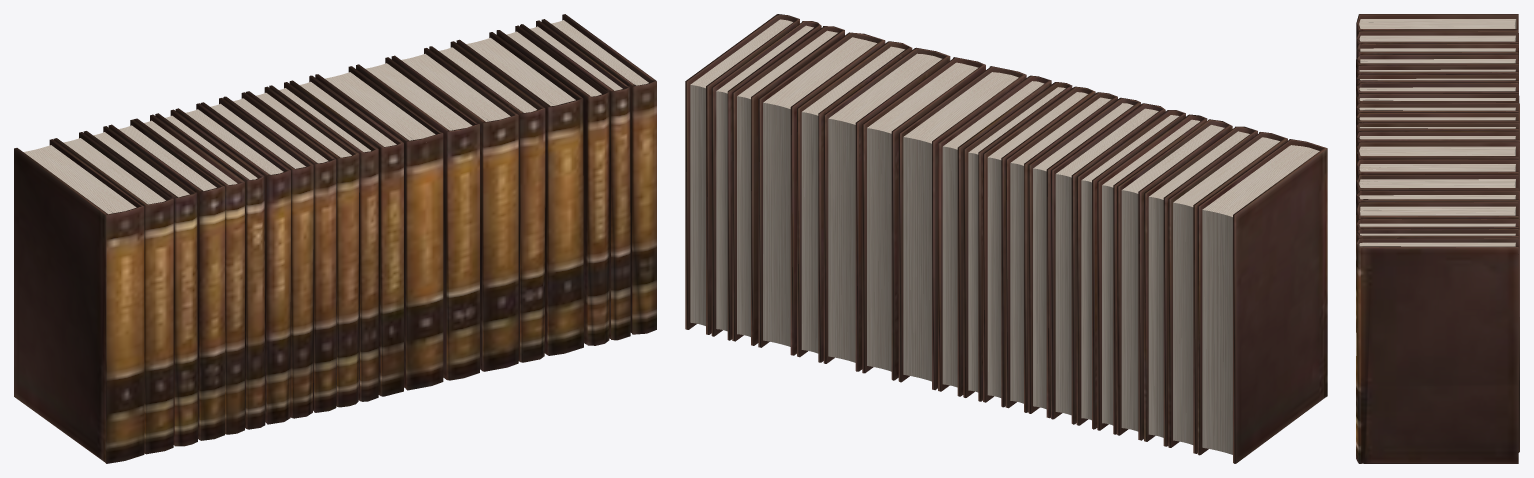
Rendered from books.glb.
3 views of the same model, side by side, from view 1: azimuth 30°, elevation 25°; view 2: azimuth 150°, elevation 25°; view 3: azimuth 270°, elevation 25° (orthographic). The views are drawn at different scales.
Parts seen in each view (by area): view 1: books; view 2: books; view 3: books.
Part boxes in pixels (x1,y1,x2,y2): books: [14, 14, 656, 463]; books: [685, 14, 1327, 463]; books: [1356, 14, 1519, 463].
Size of the model in its own units: 0.5513 by 0.2374 by 0.1631.
Materials: 2 (2 with a texture image).
